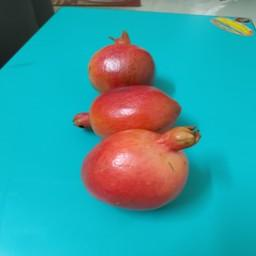pomegranate: (80, 126, 202, 211), (74, 84, 182, 140), (87, 29, 156, 93)
